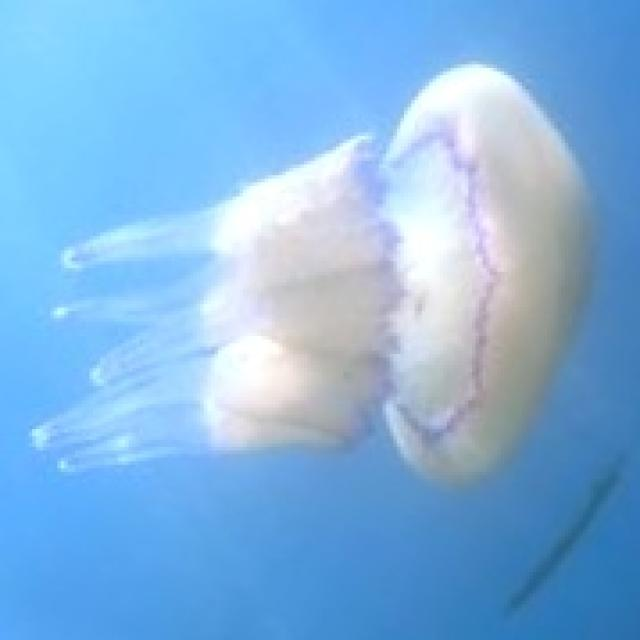Human: (29, 57, 594, 486)
